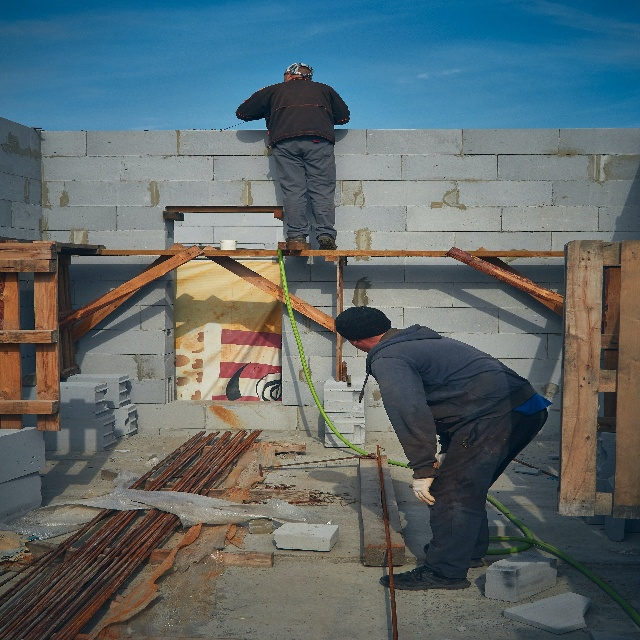Guantes: (412, 475, 435, 506)
